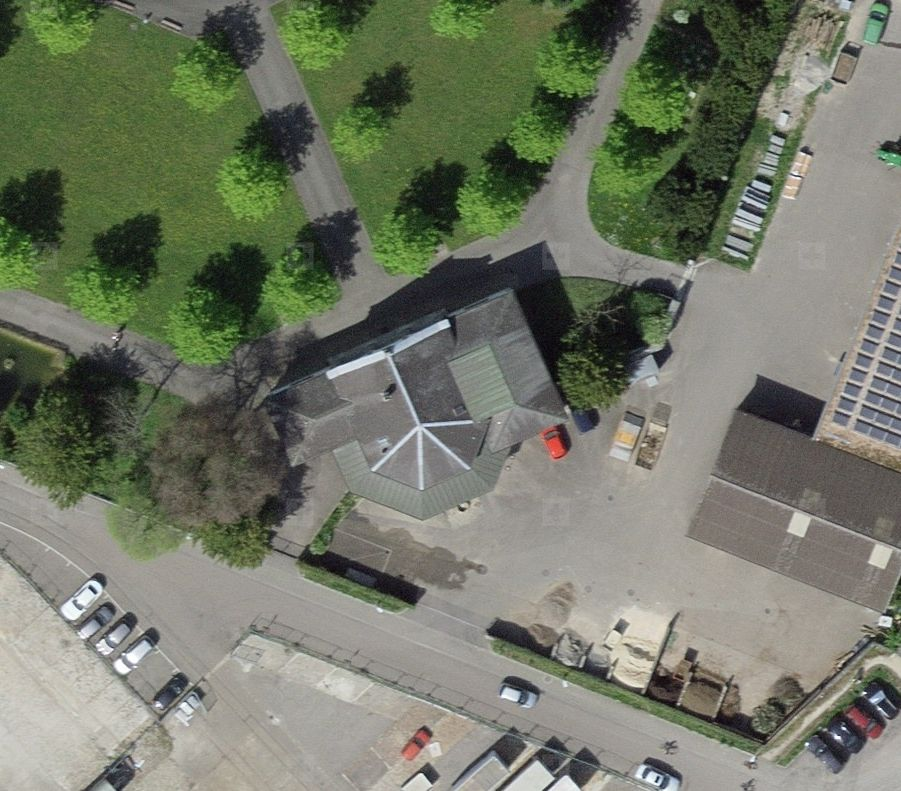solar: (831, 239, 900, 444)
